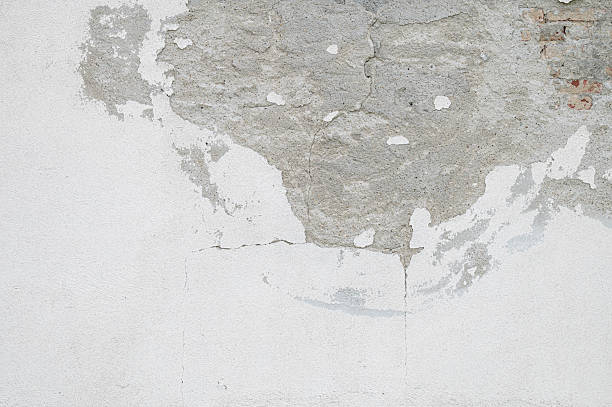wall_peeling: (80, 0, 612, 272)
